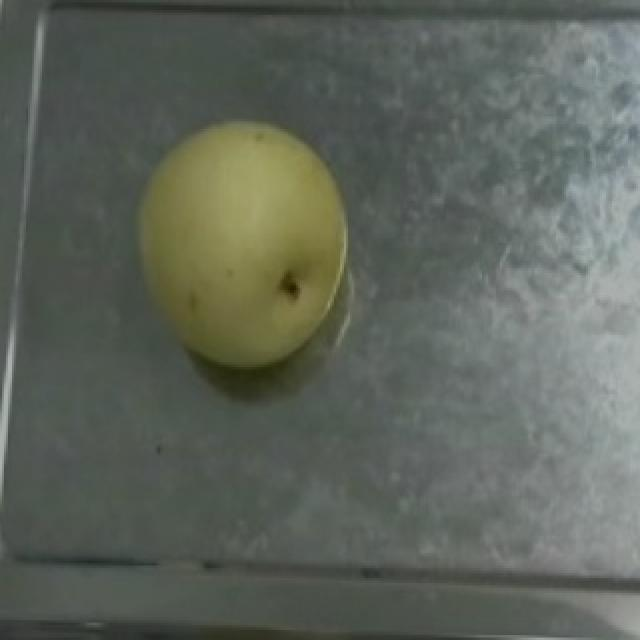Fruit: (118, 106, 362, 380)
